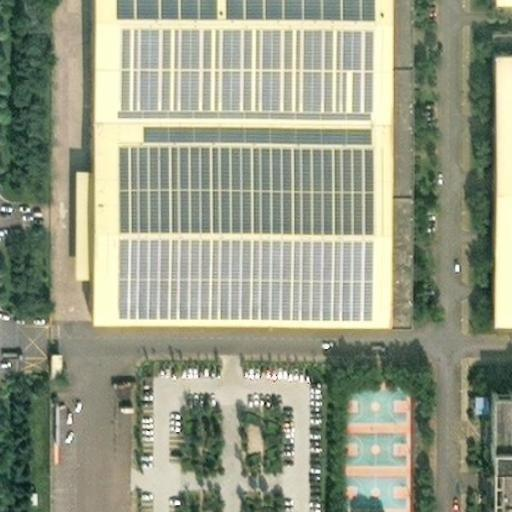building: (63, 0, 399, 314), (484, 52, 512, 311), (483, 388, 512, 508), (43, 348, 57, 375)
